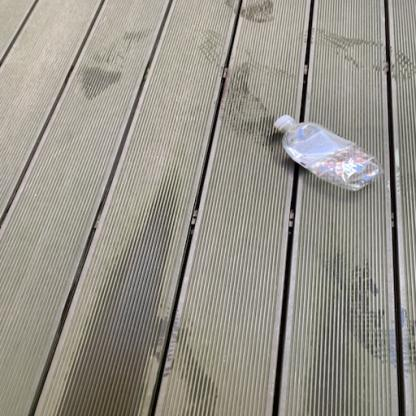trash: (269, 113, 380, 193)
